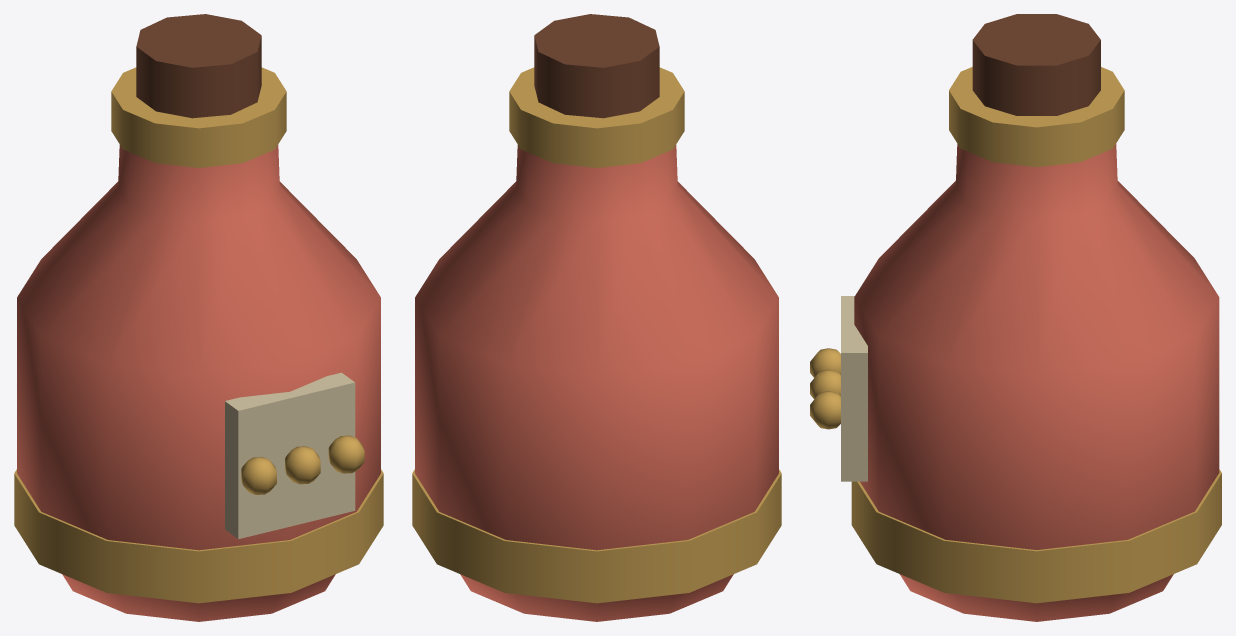
File: mega_potion.fbx
The picture shows the model from 3 angles, left to right: view 1: azimuth 30°, elevation 25°; view 2: azimuth 150°, elevation 25°; view 3: azimuth 270°, elevation 25°; orthographic projection.
Visible parts, largest first — view 1: mega_potion; view 2: mega_potion; view 3: mega_potion.
Boxes of the visible parts, x1=… form: mega_potion: x1=14, y1=14, x2=383, y2=621; mega_potion: x1=412, y1=14, x2=781, y2=621; mega_potion: x1=810, y1=14, x2=1221, y2=621.
Bounding box in the file's own units: 0.5481 × 0.85 × 0.6096.
